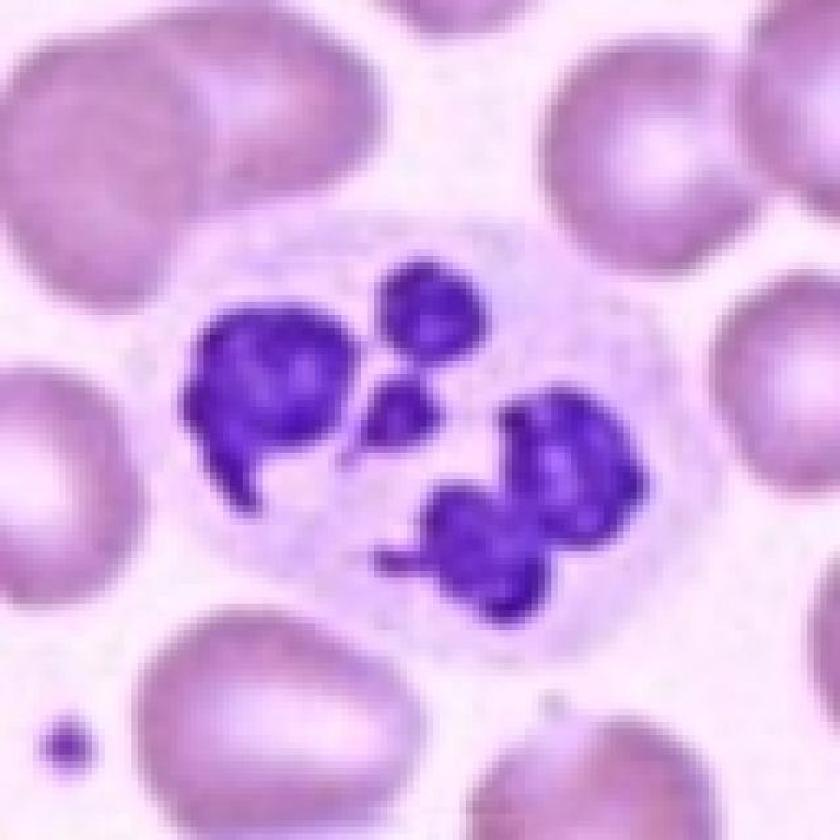neutrophil: (125, 134, 734, 732)
